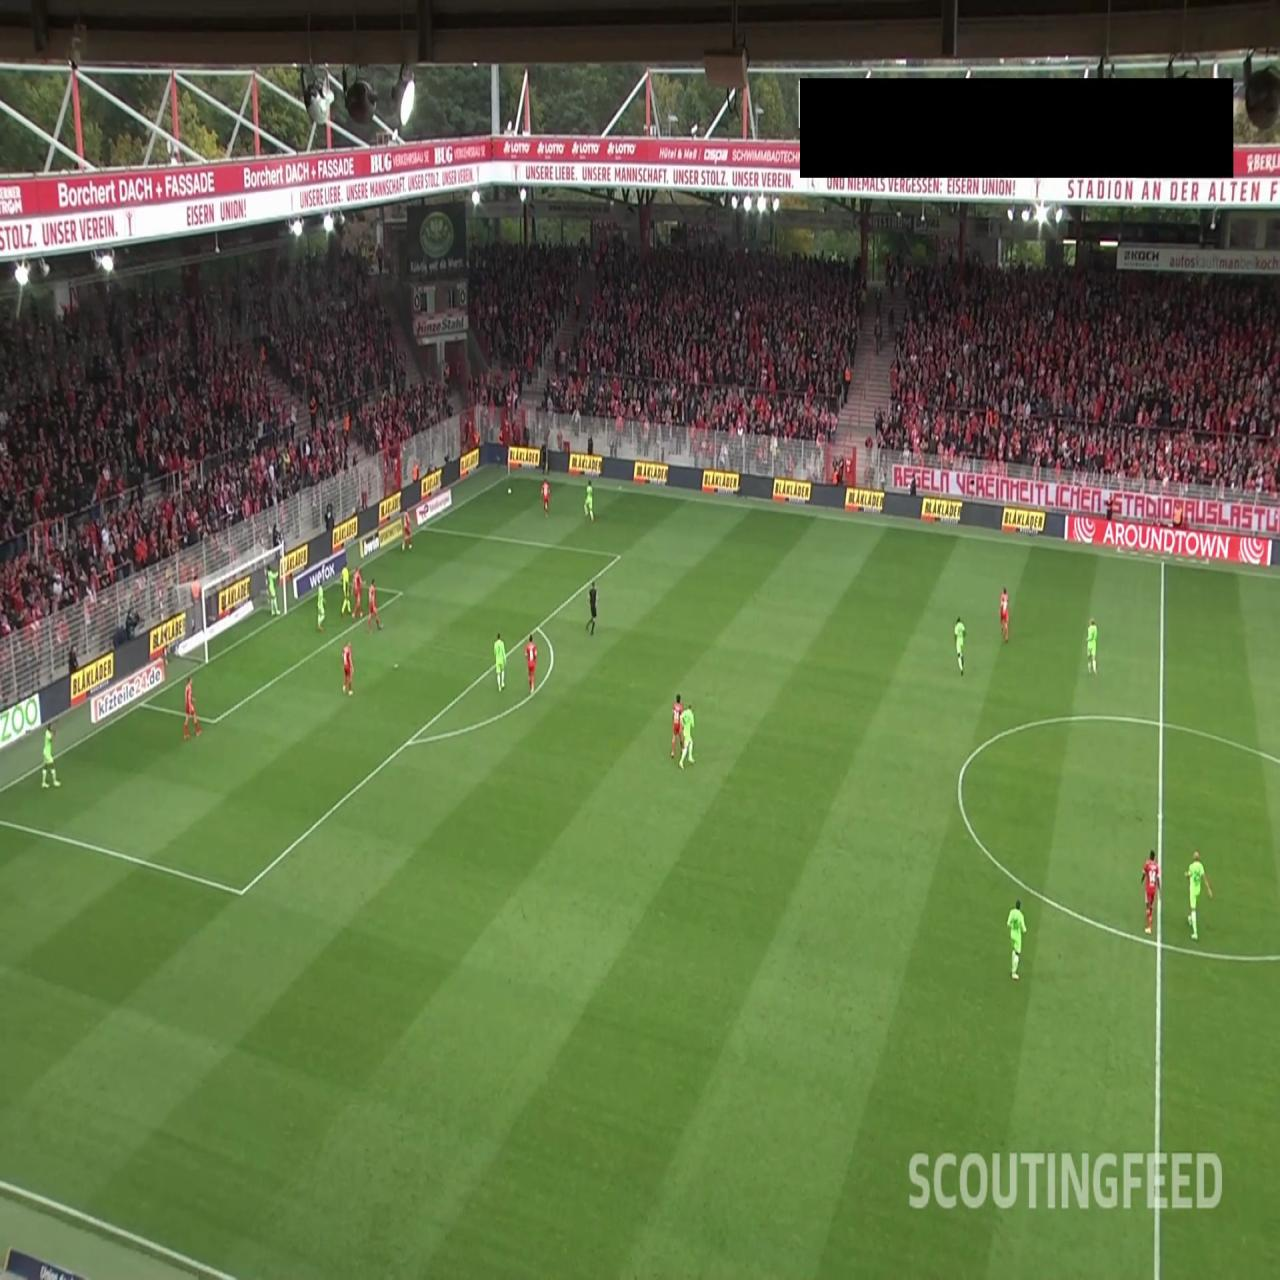ball: (507, 487, 512, 495)
goalkeeper: (265, 556, 282, 615)
player: (1184, 848, 1213, 940), (1140, 848, 1160, 935), (1006, 897, 1026, 980), (42, 723, 62, 787), (183, 674, 202, 739), (679, 701, 696, 769), (367, 577, 383, 632), (493, 631, 507, 692), (671, 693, 683, 762), (525, 633, 537, 694), (954, 615, 966, 676), (1086, 616, 1098, 676), (342, 641, 354, 696), (352, 567, 363, 622), (1000, 587, 1010, 642), (340, 563, 350, 615), (317, 576, 326, 633), (402, 509, 413, 551), (584, 479, 595, 521), (540, 478, 550, 516)
referee: (587, 582, 598, 636), (541, 438, 550, 475)
